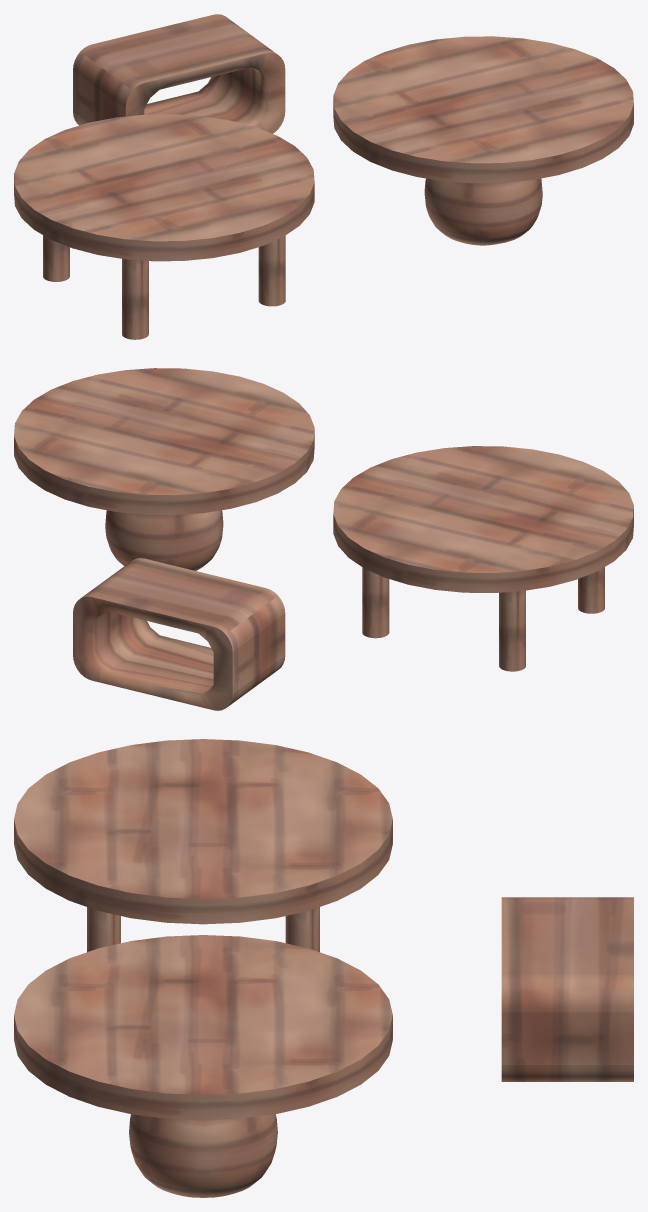
File: Table.fbx
The picture shows the model from 3 angles, top to bottom: view 1: azimuth 30°, elevation 25°; view 2: azimuth 150°, elevation 25°; view 3: azimuth 270°, elevation 25°; orthographic projection. The views are drawn at different scales.
Parts seen in each view (by area): view 1: Cylinder, Cylinder.005, Cube.002, Sphere, Cylinder.003, Cylinder.004, Cylinder.002; view 2: Cylinder, Cylinder.005, Cube.002, Sphere, Cylinder.002, Cylinder.001, Cylinder.003; view 3: Cylinder.005, Cylinder, Cube.002, Sphere, Cylinder.001, Cylinder.004.
Boxes of the visible parts, box(x1,y1,x2,y2) form: Cylinder: box(333, 36, 633, 183); Cylinder.005: box(14, 114, 314, 261); Cube.002: box(73, 14, 285, 133); Sphere: box(424, 178, 542, 245); Cylinder.003: box(122, 259, 148, 339); Cylinder.004: box(258, 235, 285, 306); Cylinder.002: box(43, 235, 69, 281); Cylinder: box(14, 368, 314, 515); Cylinder.005: box(333, 446, 633, 592); Cube.002: box(73, 558, 285, 710); Sphere: box(105, 510, 223, 570); Cylinder.002: box(499, 590, 525, 671); Cylinder.001: box(362, 567, 389, 638); Cylinder.003: box(578, 567, 604, 613); Cylinder.005: box(14, 739, 392, 924); Cylinder: box(14, 935, 392, 1120); Cube.002: box(501, 897, 633, 1081); Sphere: box(129, 1114, 277, 1197); Cylinder.001: box(285, 907, 319, 952); Cylinder.004: box(87, 907, 120, 952).
Size of the model in its own units: 2544 by 559 by 1872.
